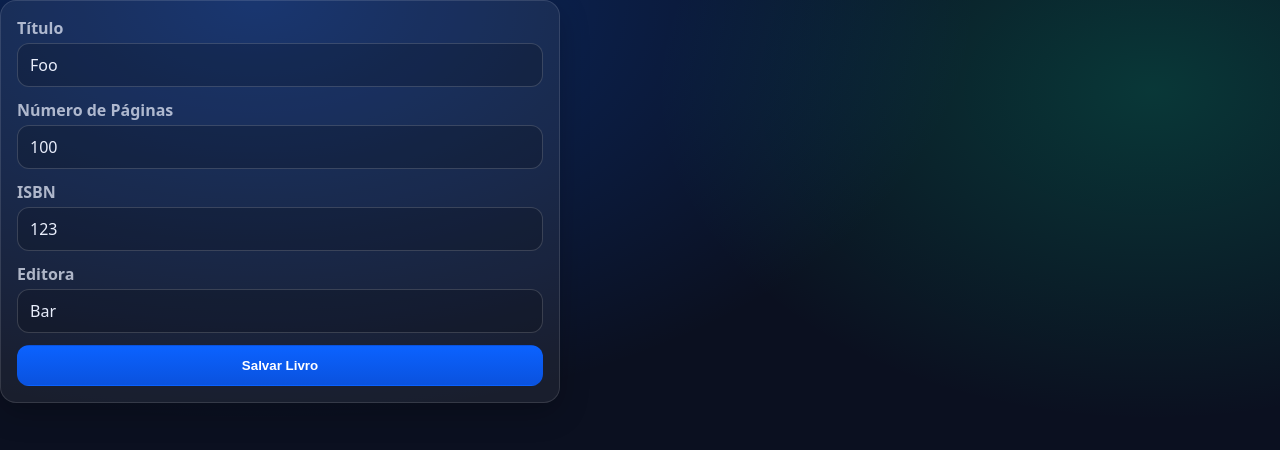
Test: BookForm › shows error message when submit throws
Click the button "Salvar Livro" at point(280, 366), box 17,345 -> 543,386
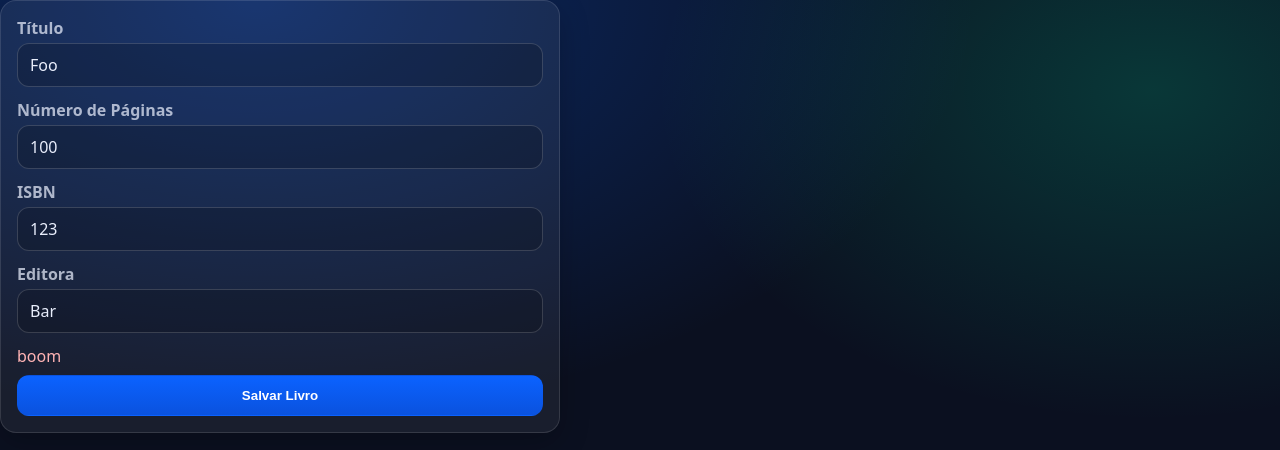
Result: the text "boom" is shown at 17,345 -> 61,367
